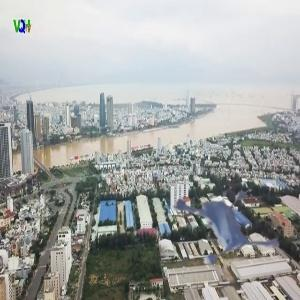drone: (148, 165, 271, 288)
